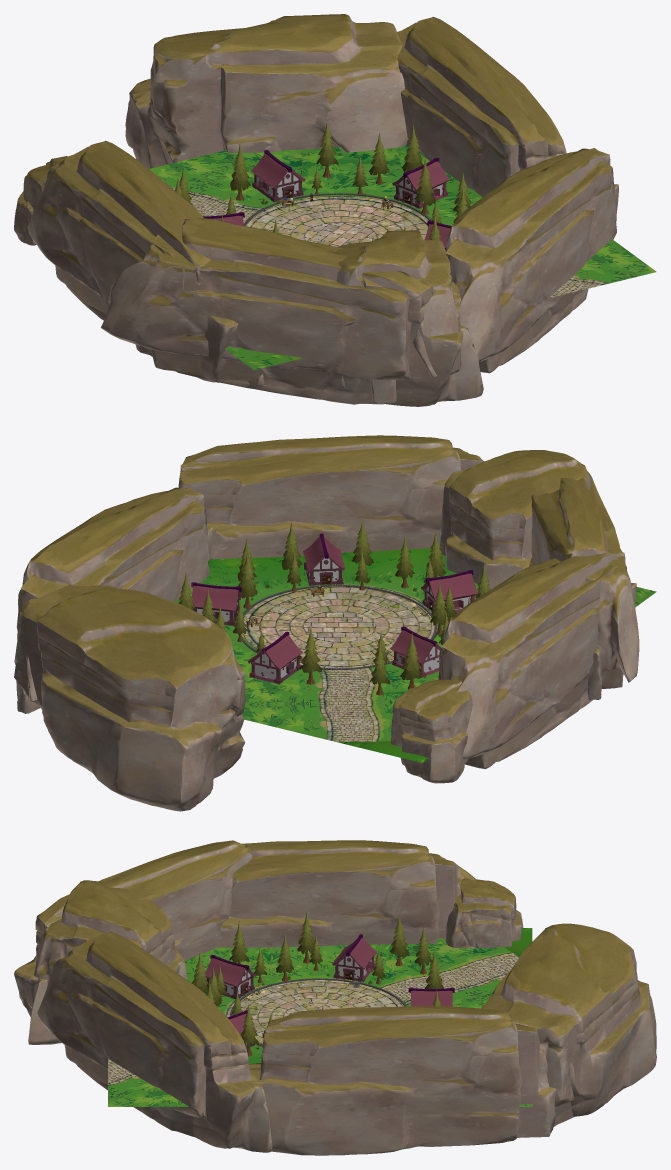
Rendered from map3.glb.
The picture shows the model from 3 angles, top to bottom: view 1: azimuth 30°, elevation 25°; view 2: azimuth 150°, elevation 25°; view 3: azimuth 270°, elevation 25°; orthographic projection. The views are drawn at different scales.
Parts seen in each view (by area): view 1: Rock_01_Low.005, Rock_01_Low.003, Rock_01_Low.006, Plane, Rock_01_Low.004, Rock_01_Low.002, Rock_01_Low.001, Rock_01_Low, Object_5_remesh-toit.002, Object_5_remesh-charpente, Object_5_remesh-toit.005, l_bigtree.002 (+2 smaller); view 2: Rock_01_Low.003, Rock_01_Low.006, Plane, Rock_01_Low.004, Rock_01_Low.002, Rock_01_Low.001, Rock_01_Low.005, Rock_01_Low, Object_5_remesh-toit.005, Object_5_remesh-toit.011, Object_5_remesh-toit.008, Object_5_remesh-toit.002 (+4 smaller); view 3: Rock_01_Low.002, Rock_01_Low.006, Rock_01_Low.004, Rock_01_Low.003, Plane, Rock_01_Low.005, Rock_01_Low.001, Rock_01_Low, Object_5_remesh-toit.011, Object_5_remesh-toit.014, Object_5_remesh-toit.002, l_bigtree.001 (+1 smaller).
Part boxes in pixels (x1,y1,x2,y2): Rock_01_Low.005: (100, 218, 483, 406); Rock_01_Low.003: (125, 14, 408, 168); Rock_01_Low.006: (445, 148, 618, 373); Plane: (149, 145, 656, 370); Rock_01_Low.004: (27, 140, 263, 388); Rock_01_Low.002: (396, 17, 566, 196); Rock_01_Low.001: (336, 230, 461, 403); Rock_01_Low: (14, 156, 67, 245); Object_5_remesh-toit.002: (250, 153, 305, 188); Object_5_remesh-charpente: (252, 172, 303, 202); Object_5_remesh-toit.005: (392, 161, 450, 192); l_bigtree.002: (230, 143, 250, 200); Rock_01_Low.003: (14, 585, 245, 811); Rock_01_Low.006: (178, 435, 483, 559); Plane: (174, 548, 656, 762); Rock_01_Low.004: (438, 547, 636, 769); Rock_01_Low.002: (16, 487, 212, 713); Rock_01_Low.001: (439, 450, 590, 589); Rock_01_Low.005: (529, 471, 639, 700); Rock_01_Low: (390, 679, 473, 783); Object_5_remesh-toit.005: (191, 586, 242, 611); Object_5_remesh-toit.011: (421, 573, 477, 600); Object_5_remesh-toit.008: (303, 537, 345, 571); Object_5_remesh-toit.002: (248, 635, 302, 670); Rock_01_Low.002: (248, 1006, 580, 1155); Rock_01_Low.006: (37, 931, 272, 1152); Rock_01_Low.004: (217, 840, 476, 947); Rock_01_Low.003: (481, 923, 656, 1126); Plane: (108, 928, 532, 1106); Rock_01_Low.005: (14, 840, 252, 1044); Rock_01_Low.001: (27, 880, 187, 1008); Rock_01_Low: (445, 878, 523, 948); Object_5_remesh-toit.011: (204, 958, 256, 986); Object_5_remesh-toit.014: (332, 937, 376, 969); Object_5_remesh-toit.002: (411, 990, 452, 1006); l_bigtree.001: (389, 913, 409, 966).
Size of what is drawn, in the model's own units: 118 by 33 by 144.
Materials: 39 (18 with a texture image).
